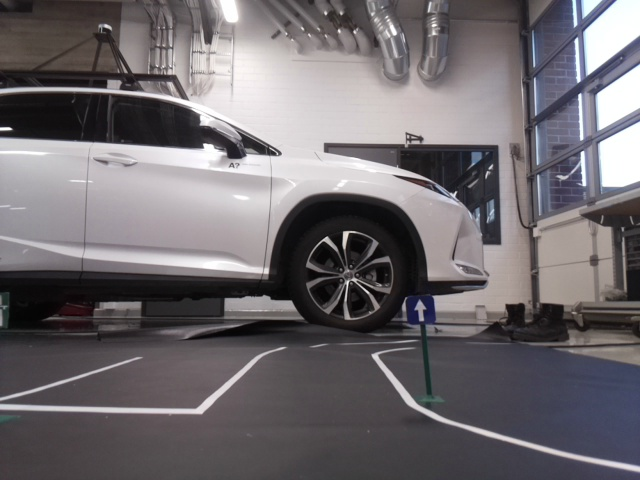OneWay: (406, 297, 435, 323)
